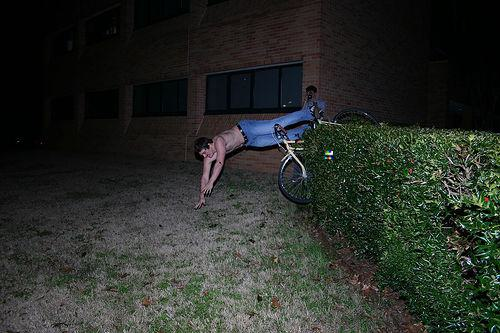car: (267, 100, 391, 210)
person: (191, 98, 330, 213)
